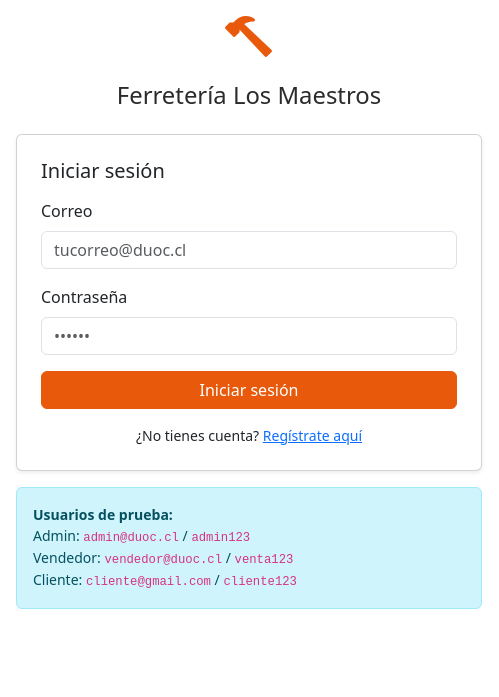
Test: Página Login › con datos incorrectos avisa y NO inicia sesión
Step 1. Type "admin@duoc.cl" into the field labelled "Correo" → (249, 250), box [41,231,457,269]
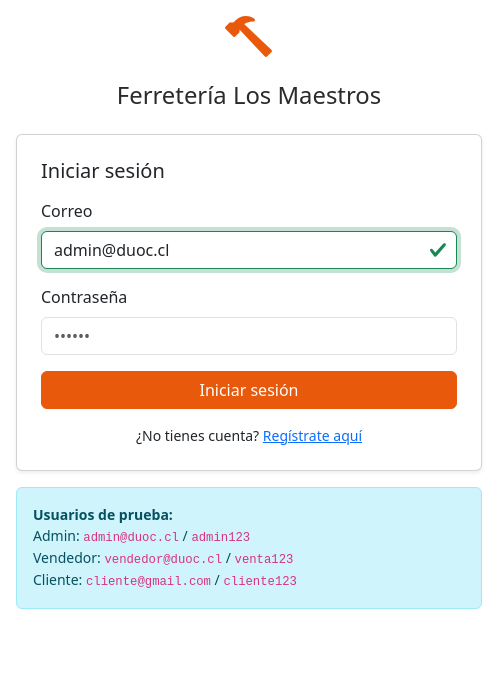
Step 2. Type "malaclave" into the password field labelled "Contraseña" → (249, 336), box [41,317,457,355]
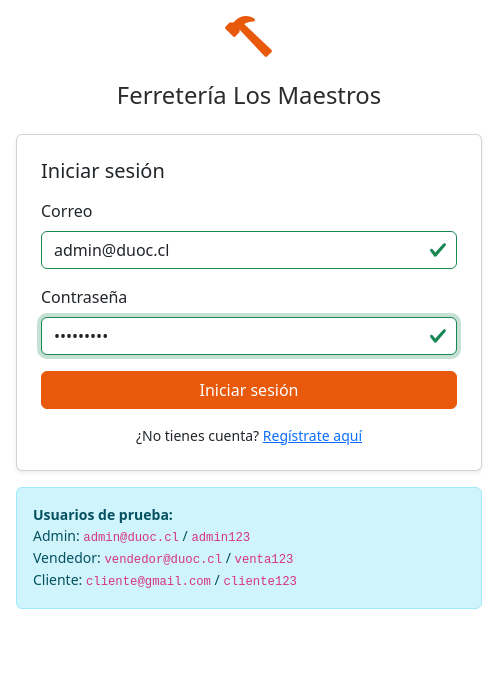
Step 3. Click the button "Iniciar sesión" → (249, 390), box [41,371,457,409]
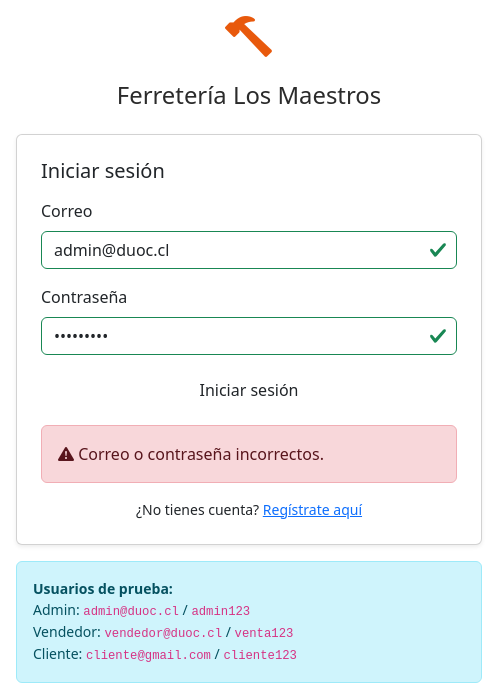
Check: the message reads "Correo o contraseña incorrectos.", box [78,443,324,465]
